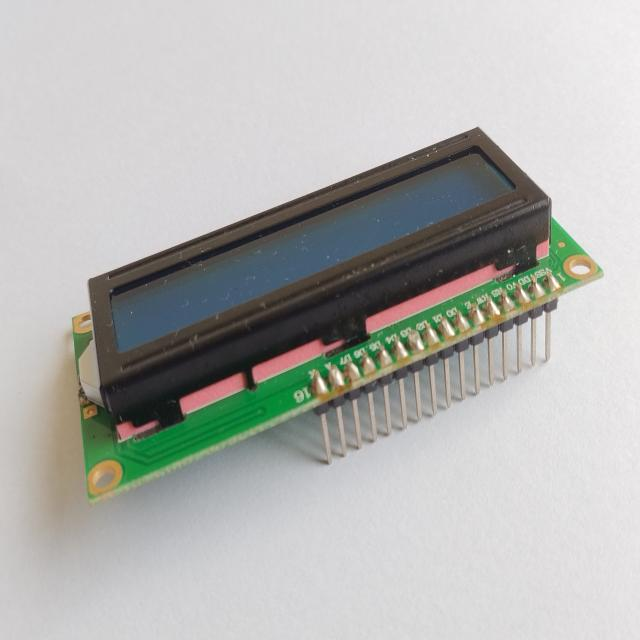lcd: (58, 112, 604, 533)
